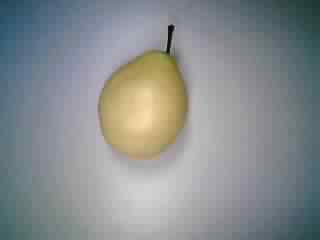pear: (79, 17, 214, 166)
